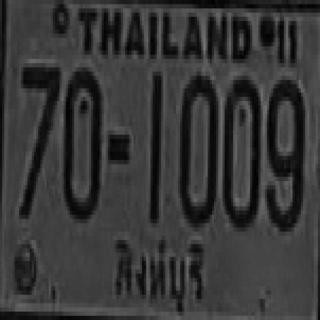N00: (63, 66, 101, 222), (180, 74, 218, 225), (224, 76, 260, 227)
N01: (148, 70, 161, 221)
N07: (19, 63, 59, 215)
N09: (266, 76, 304, 228)
P62: (109, 228, 203, 300)
